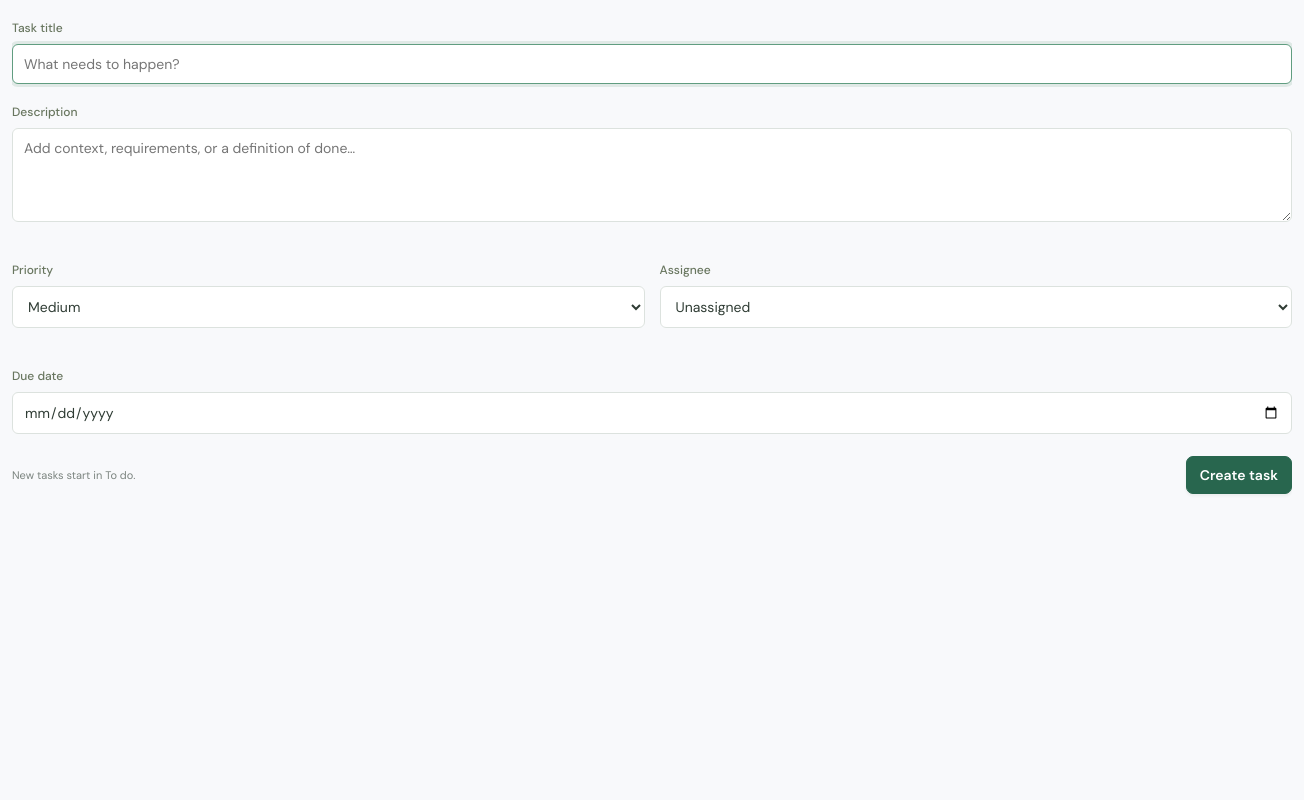
Test case: preserves input and displays validation errors
Type "Keep this title" into the field labelled "Task title". click: [652, 64]
box: [12,44,1292,84]
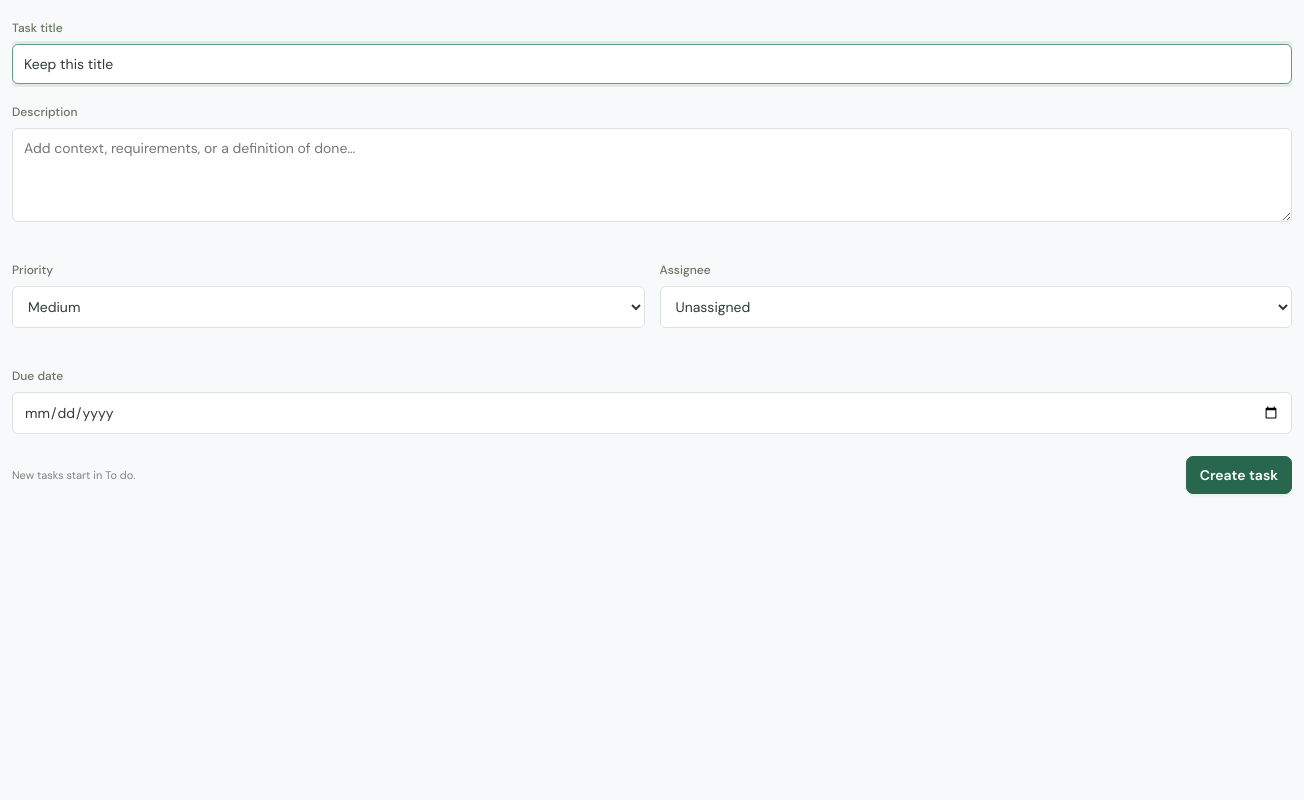
Click the button "Create task". click: [1239, 475]
box: [1186,456,1292,494]
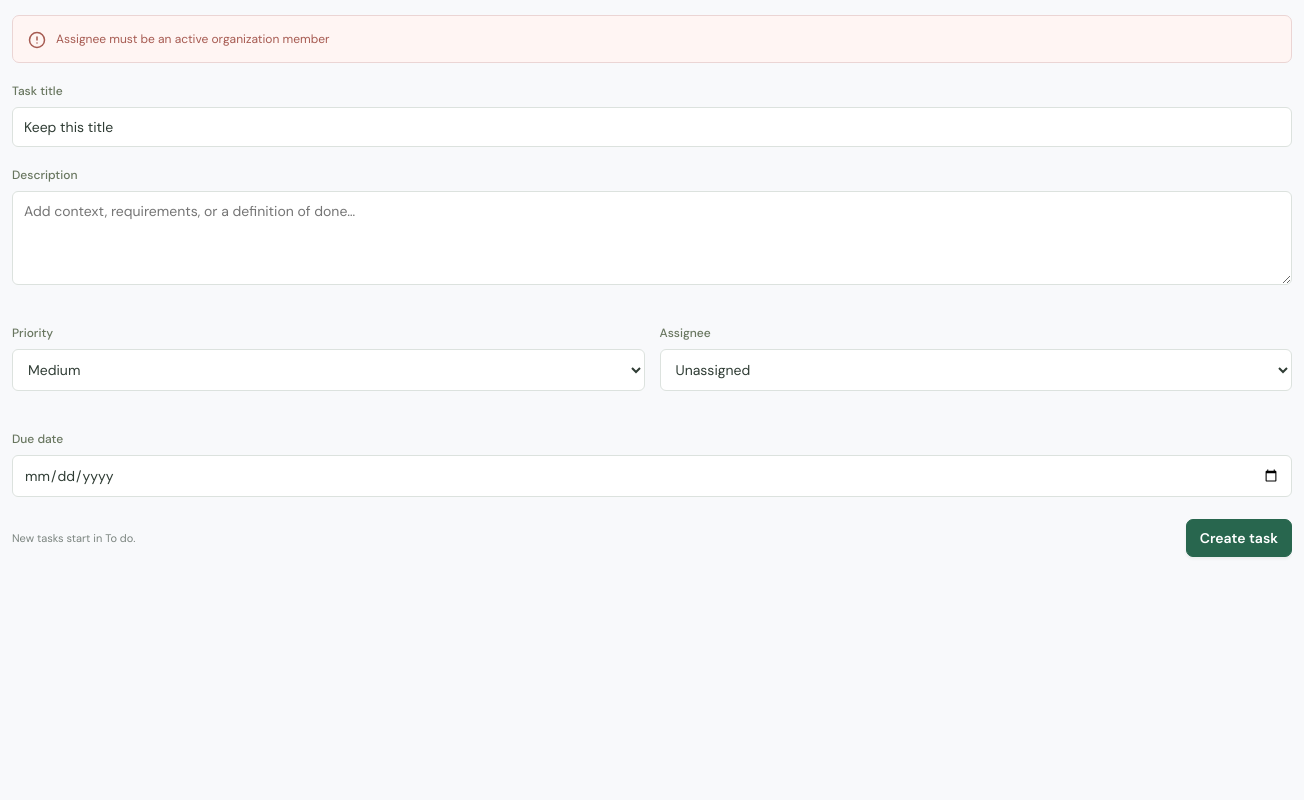
Result: the message shows "Assignee must be an active" at [56,31,330,47]
